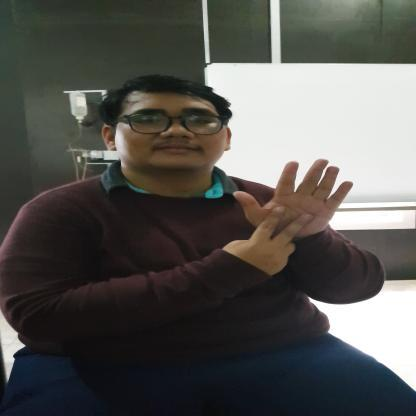N: (224, 158, 354, 272)
